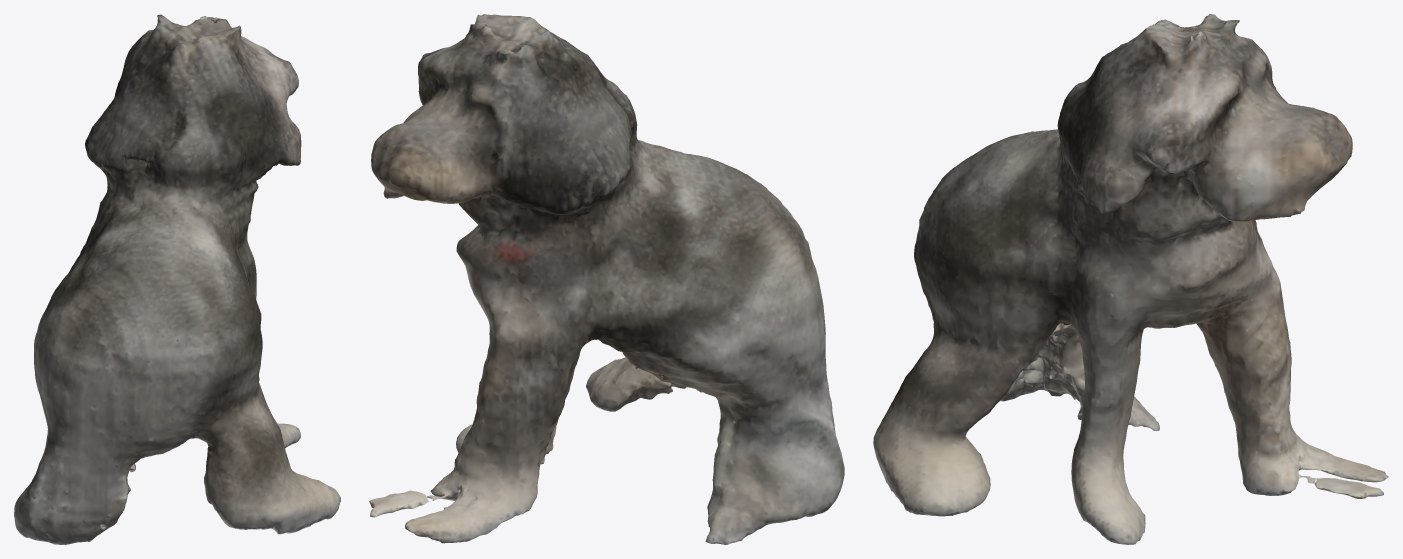
Rendered from tmpqjnrme7r.gltf.
The picture shows the model from 3 angles, left to right: view 1: azimuth 30°, elevation 25°; view 2: azimuth 150°, elevation 25°; view 3: azimuth 270°, elevation 25°; orthographic projection. The views are drawn at different scales.
Parts seen in each view (by area): view 1: world; view 2: world; view 3: world.
Boxes of the visible parts, x1,y1,x2,y2 form: world: (14, 14, 340, 544); world: (369, 14, 844, 544); world: (873, 14, 1388, 544).
Bounding box in the file's own units: 1.53 × 1.93 × 1.8.
